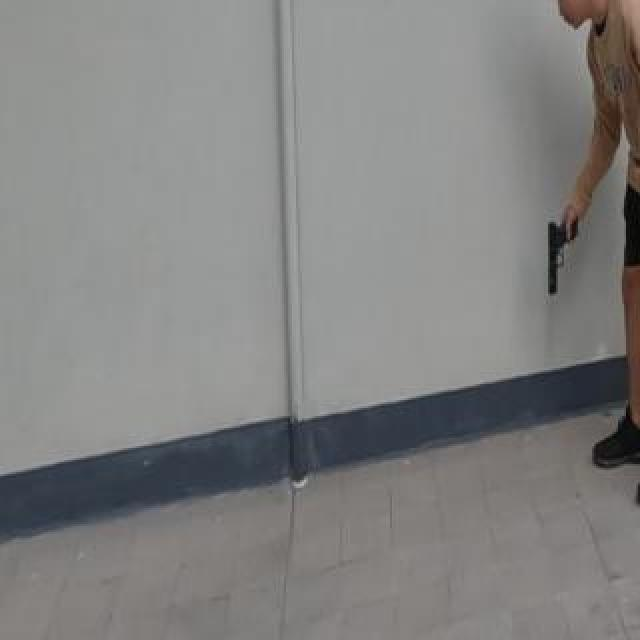Guns: (539, 214, 579, 300)
